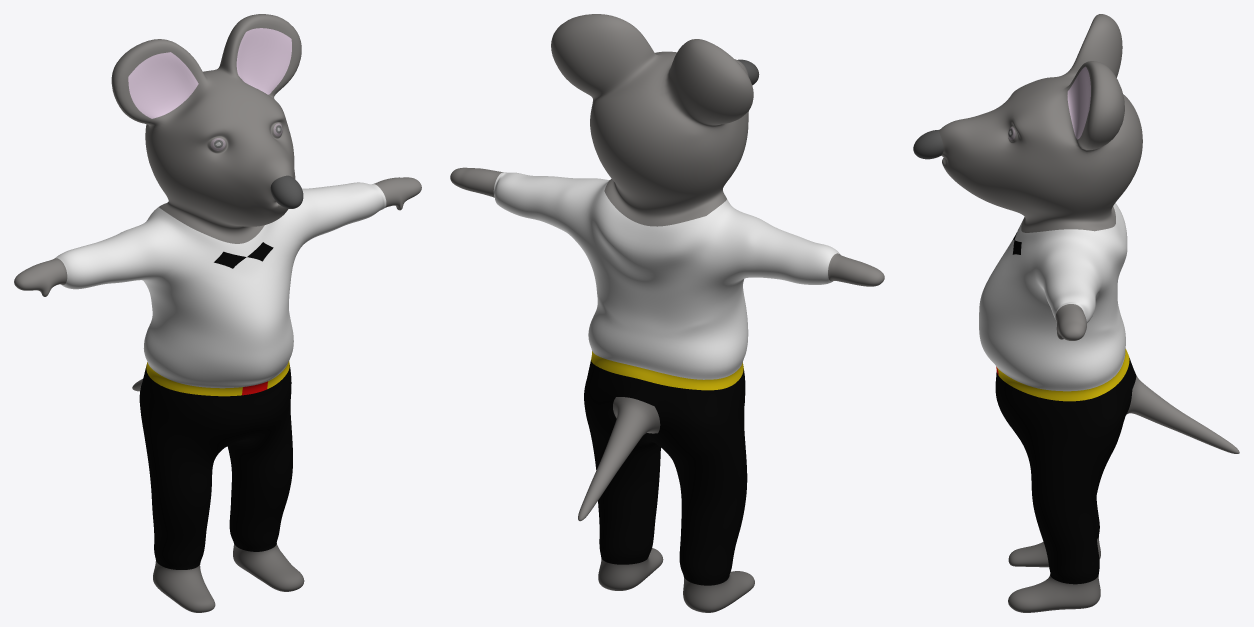
The model's file is SmartStuart.fbx.
3 renders of one model, left to right at view 1: azimuth 30°, elevation 25°; view 2: azimuth 150°, elevation 25°; view 3: azimuth 270°, elevation 25°, orthographic. The views are drawn at different scales.
Visible parts, largest first — view 1: Stuart; view 2: Stuart; view 3: Stuart.
Part boxes in pixels (x1,y1,x2,y2): Stuart: (14, 14, 421, 612); Stuart: (450, 14, 884, 612); Stuart: (913, 14, 1239, 612).
Bounding box in the file's own units: 1.23 × 1.58 × 0.8556.
